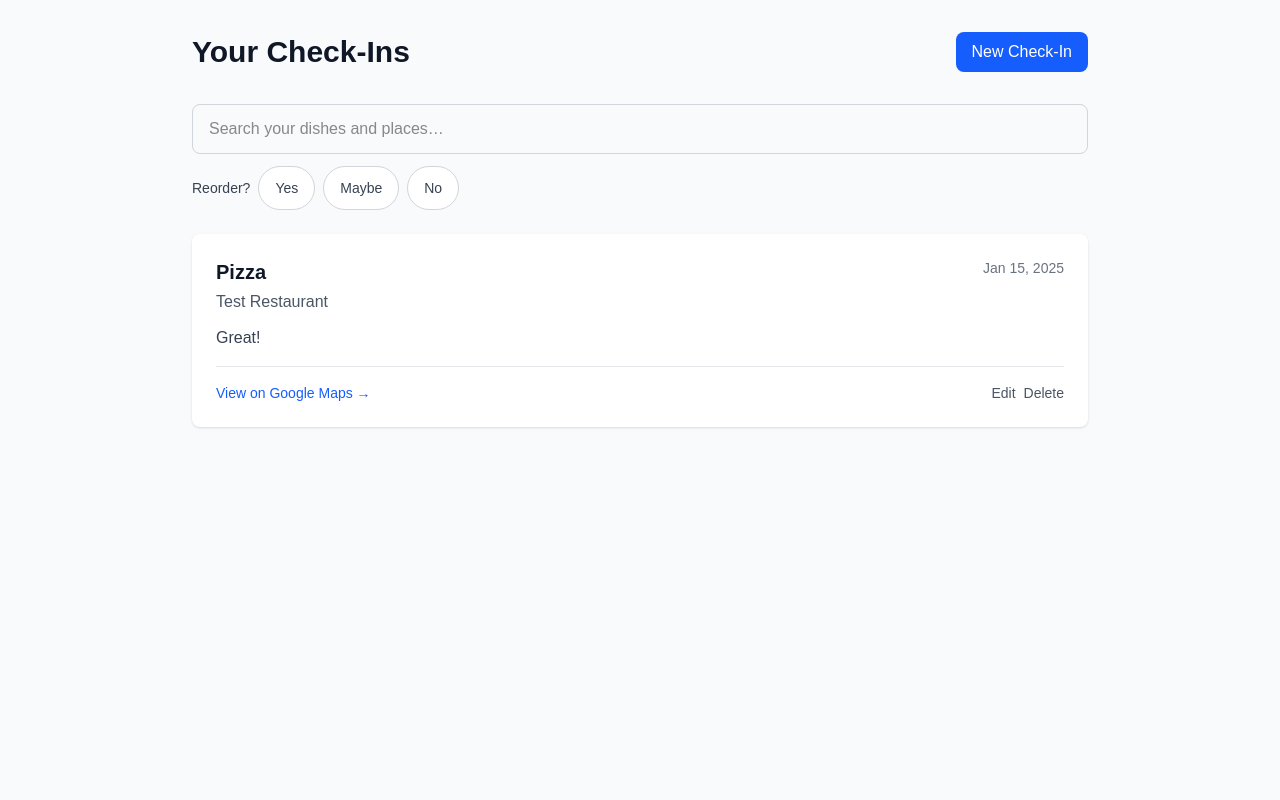
Test: HistoryPage › should open edit modal when edit button is clicked
Expected: the heading "Pizza" is shown, [216, 258, 266, 286]
Click the button "Edit": (1003, 393) [991, 383, 1016, 403]
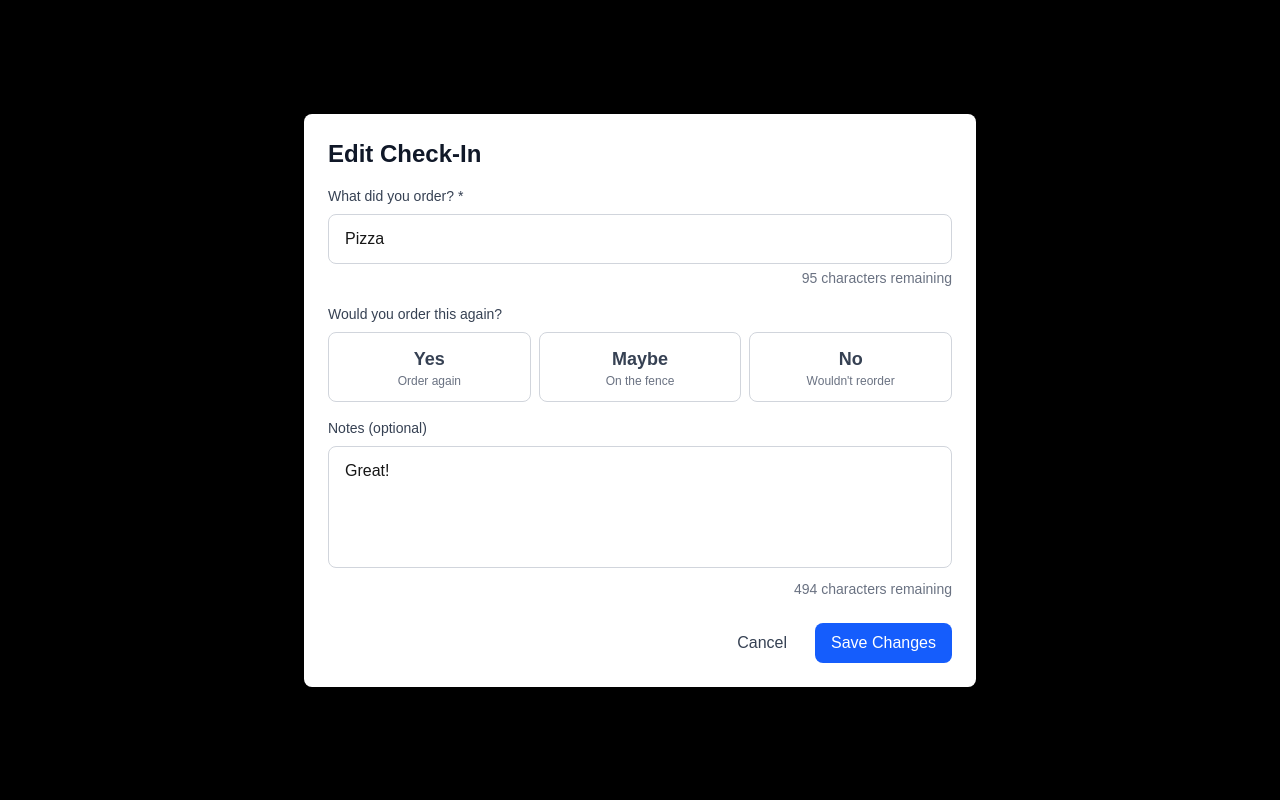
Expected: the heading "Edit Check-In" is shown, [328, 140, 481, 166]
Expected: the field showing "Pizza" is shown, [328, 214, 952, 264]
Expected: the text box showing "Great!" is shown, [328, 446, 952, 568]
